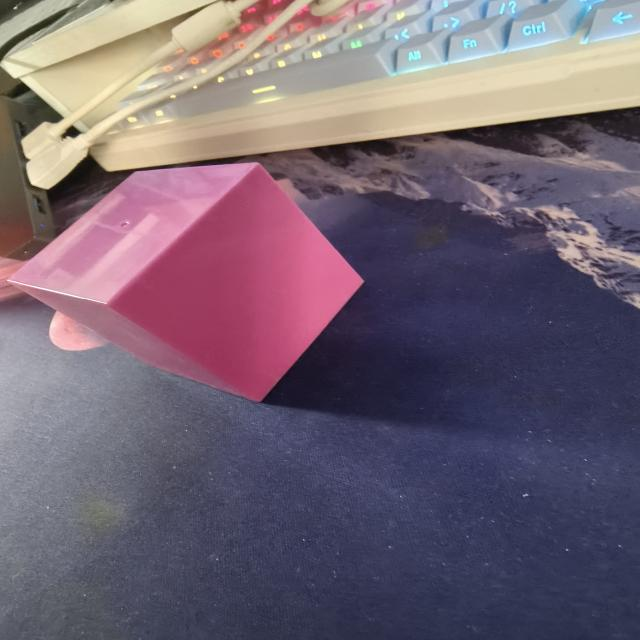pink: (7, 162, 370, 408)
